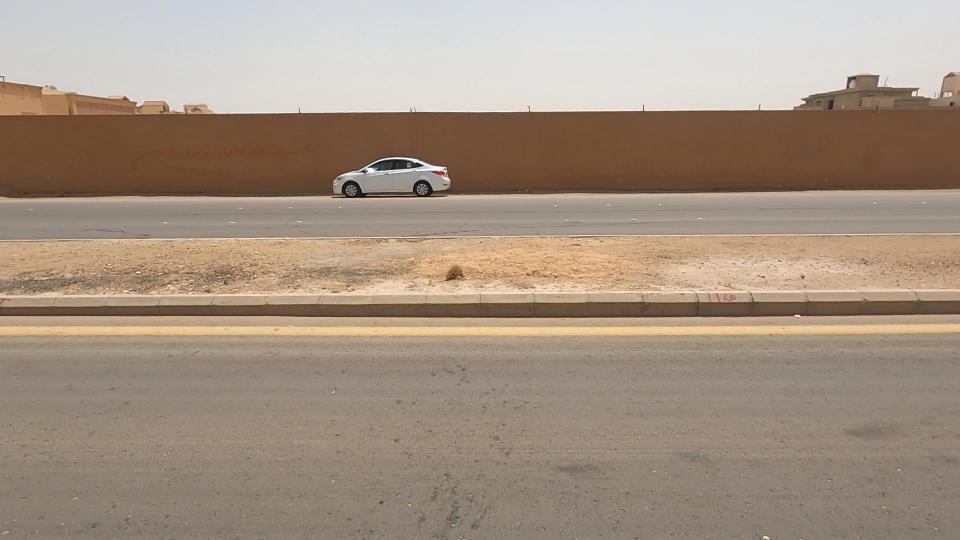CLUTTER_SIDEWALK: (286, 208, 946, 336), (0, 210, 549, 337)
